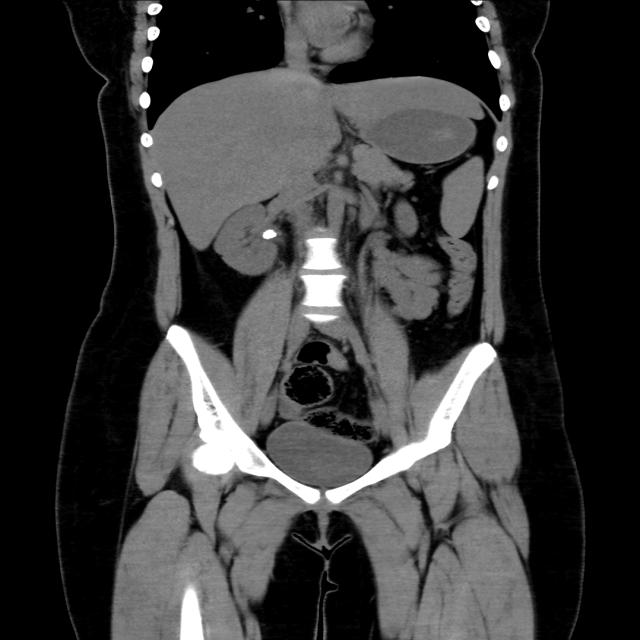kidneystone: (263, 229, 277, 239)
